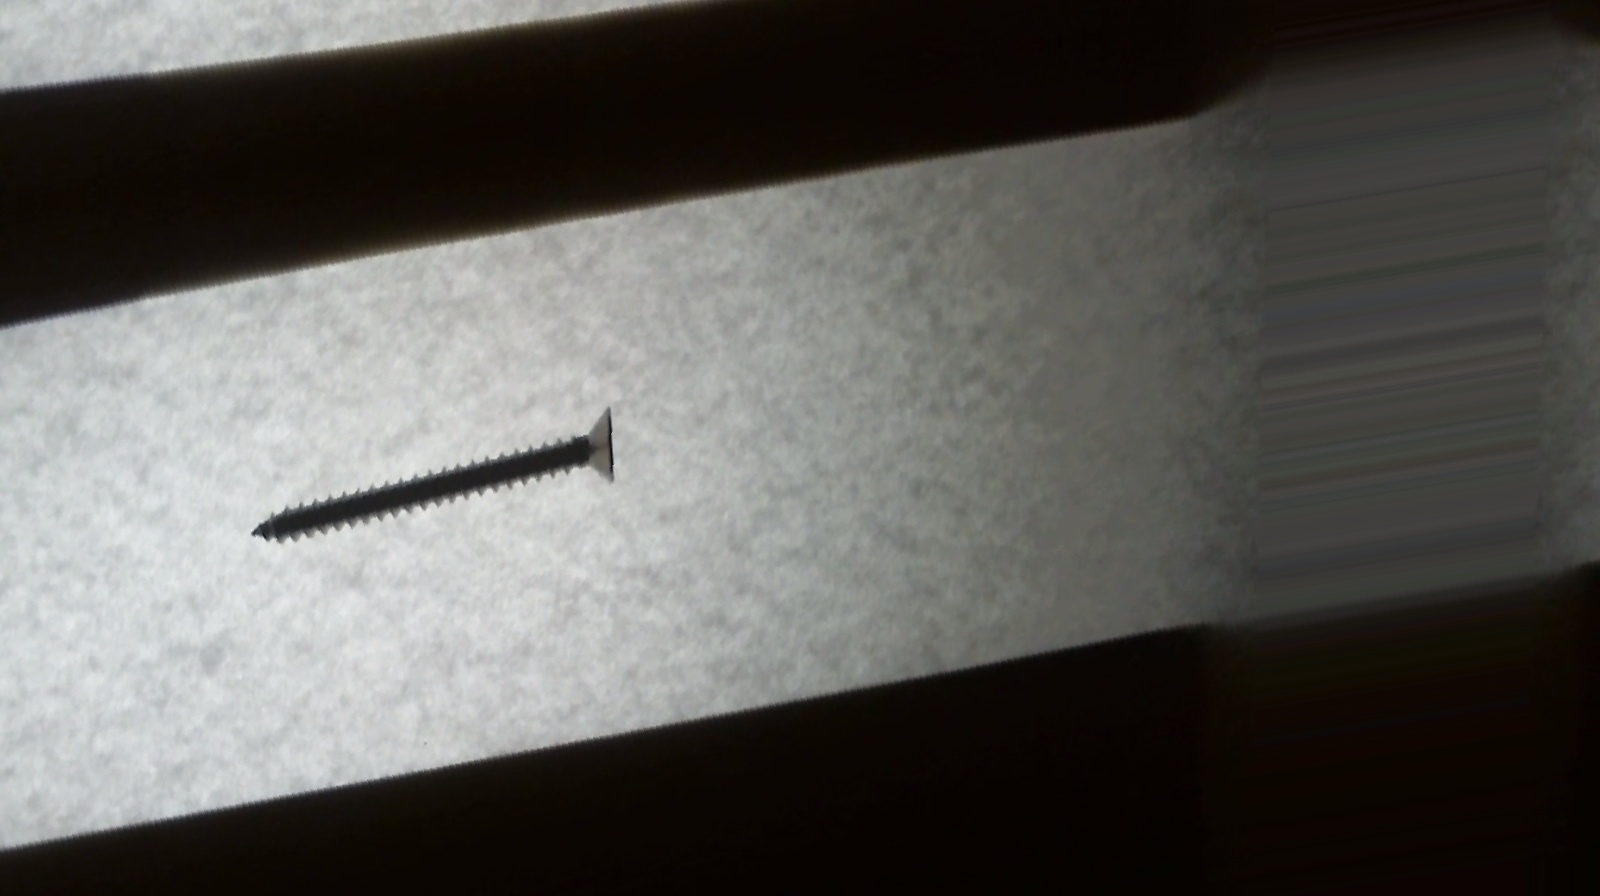S002: (251, 403, 623, 553)
